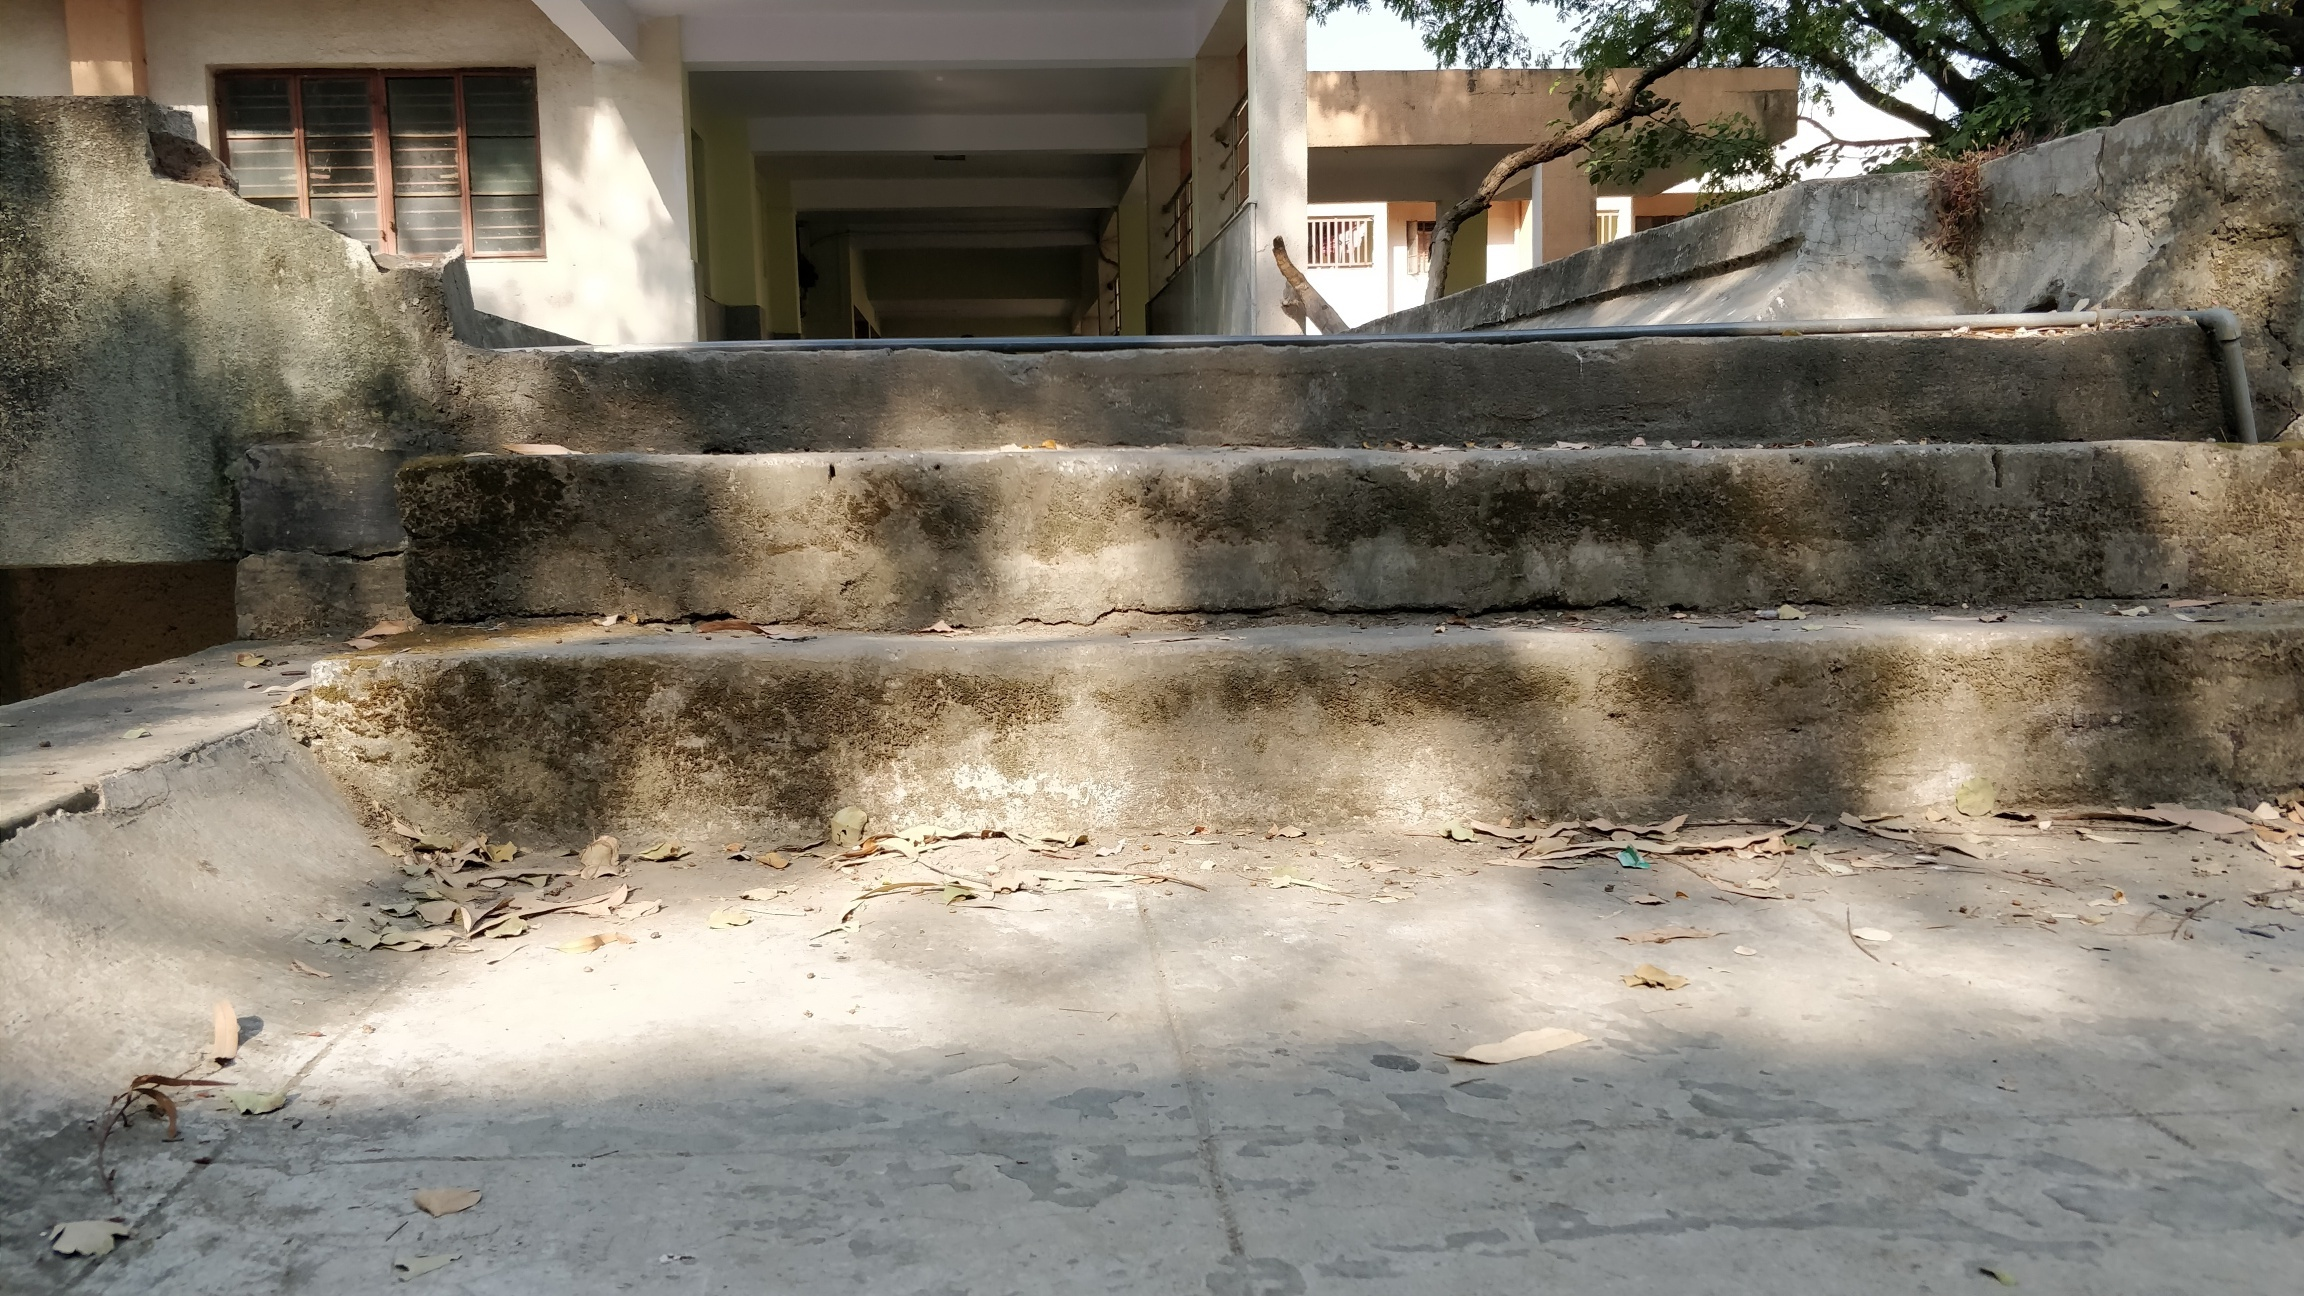stairs_up: (272, 353, 2304, 802)
